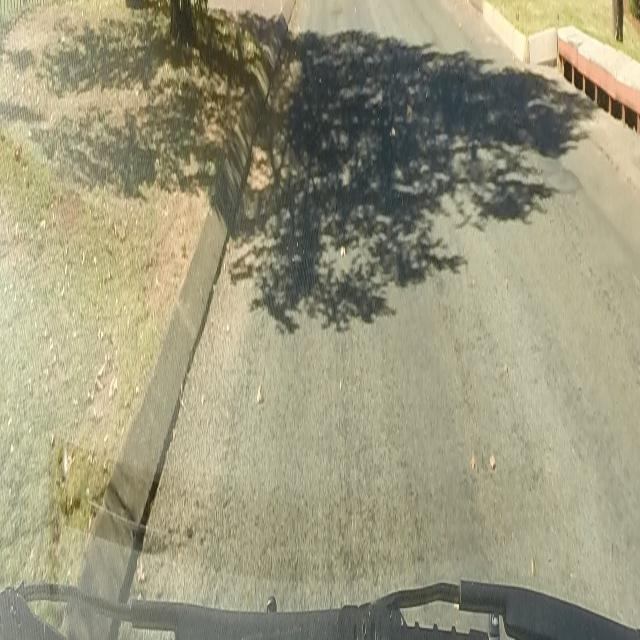pothole: (332, 0, 342, 8)
